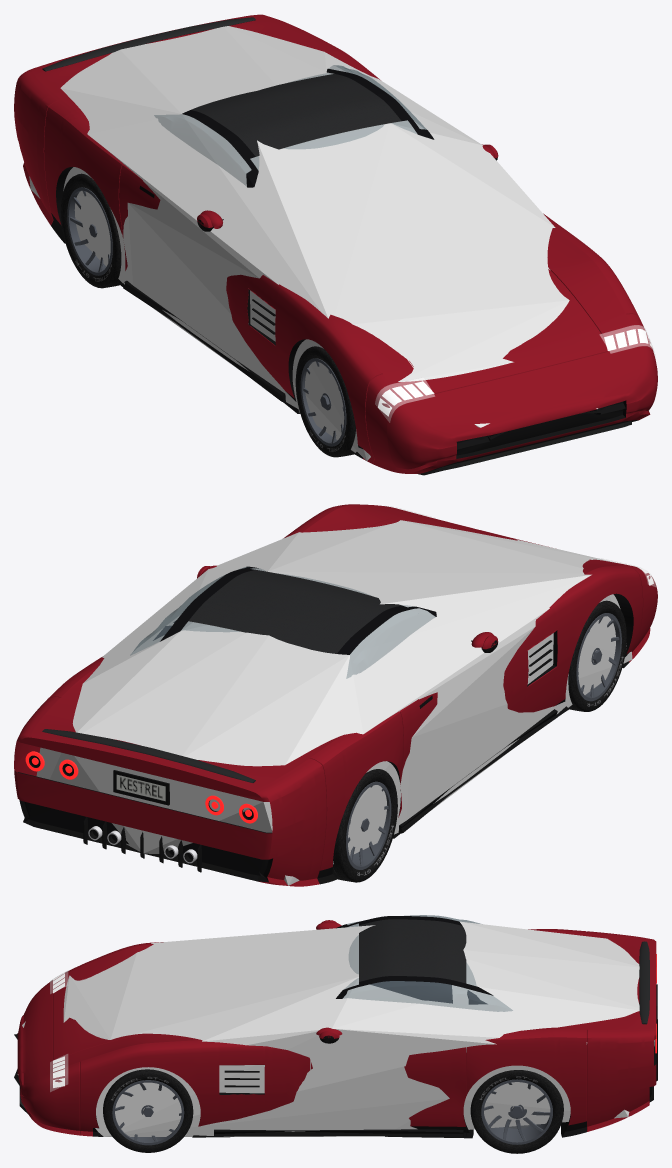
Rendered from kestrel_gtr_lod0.glb.
3 views of the same model, one above another, from view 1: azimuth 30°, elevation 25°; view 2: azimuth 150°, elevation 25°; view 3: azimuth 270°, elevation 25° (orthographic). The views are drawn at different scales.
Visible parts, largest first — view 1: col_body, body, trim, glass, wheel_RR, wheel_FR, lights_front, underbody; view 2: col_body, body, trim, glass, wheel_RR, wheel_FR, plate_rear, lights_rear, exhaust, underbody; view 3: col_body, body, wheel_RL, glass, wheel_FL, trim, interior, lights_front.
Part boxes in pixels (left/top/right/bottom): col_body: left=29, top=26, right=597, bottom=460; body: left=14, top=14, right=657, bottom=473; trim: left=42, top=17, right=631, bottom=475; glass: left=154, top=65, right=426, bottom=186; wheel_RR: left=60, top=173, right=122, bottom=288; wheel_FR: left=295, top=346, right=355, bottom=457; lights_front: left=375, top=325, right=655, bottom=422; underbody: left=56, top=167, right=638, bottom=472; col_body: left=36, top=520, right=632, bottom=885; body: left=14, top=504, right=657, bottom=886; trim: left=42, top=566, right=557, bottom=872; glass: left=130, top=567, right=435, bottom=678; wheel_RR: left=332, top=769, right=397, bottom=882; wheel_FR: left=568, top=600, right=626, bottom=711; plate_rear: left=113, top=770, right=169, bottom=805; lights_rear: left=25, top=751, right=257, bottom=823; exhaust: left=88, top=826, right=197, bottom=863; underbody: left=388, top=593, right=633, bottom=838; col_body: left=17, top=921, right=654, bottom=1136; body: left=14, top=916, right=656, bottom=1138; wheel_RL: left=470, top=1070, right=563, bottom=1153; glass: left=343, top=915, right=512, bottom=1011; wheel_FL: left=103, top=1069, right=193, bottom=1152; trim: left=19, top=920, right=657, bottom=1137; interior: left=370, top=981, right=487, bottom=1004; lights_front: left=50, top=971, right=68, bottom=1091.
Bounding box in the file's own units: 2.01 × 1.28 × 4.8.
Materials: 15 (3 with a texture image).
